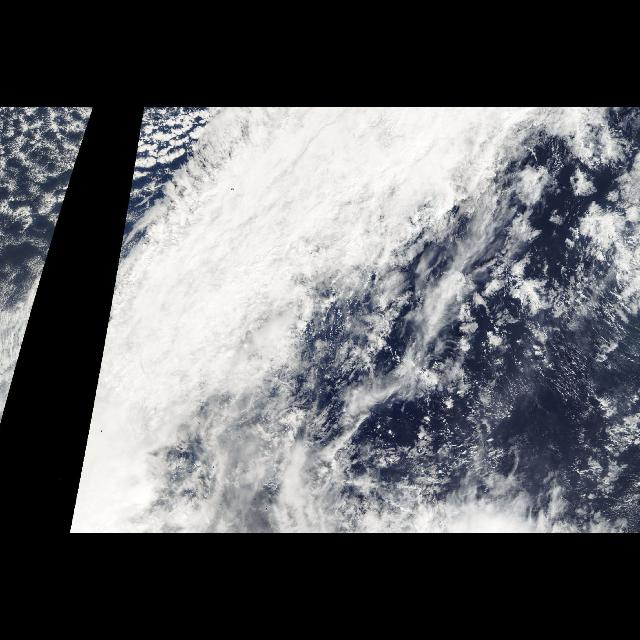Flower: (458, 318, 504, 358), (146, 122, 180, 164)
Gravel: (491, 154, 639, 428), (118, 107, 215, 250), (0, 107, 96, 250)
